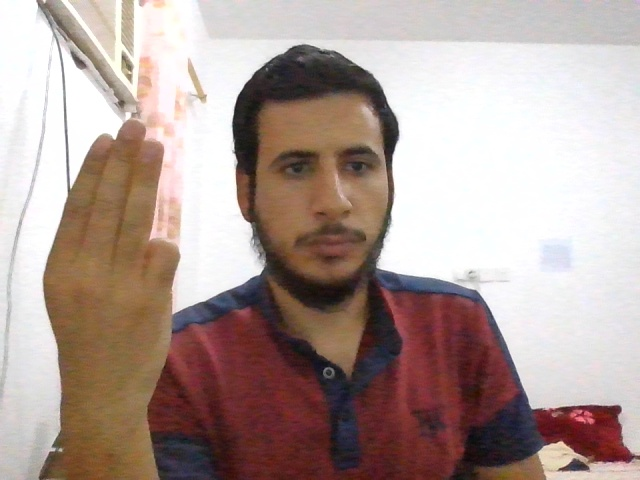Three: (44, 118, 181, 396)
